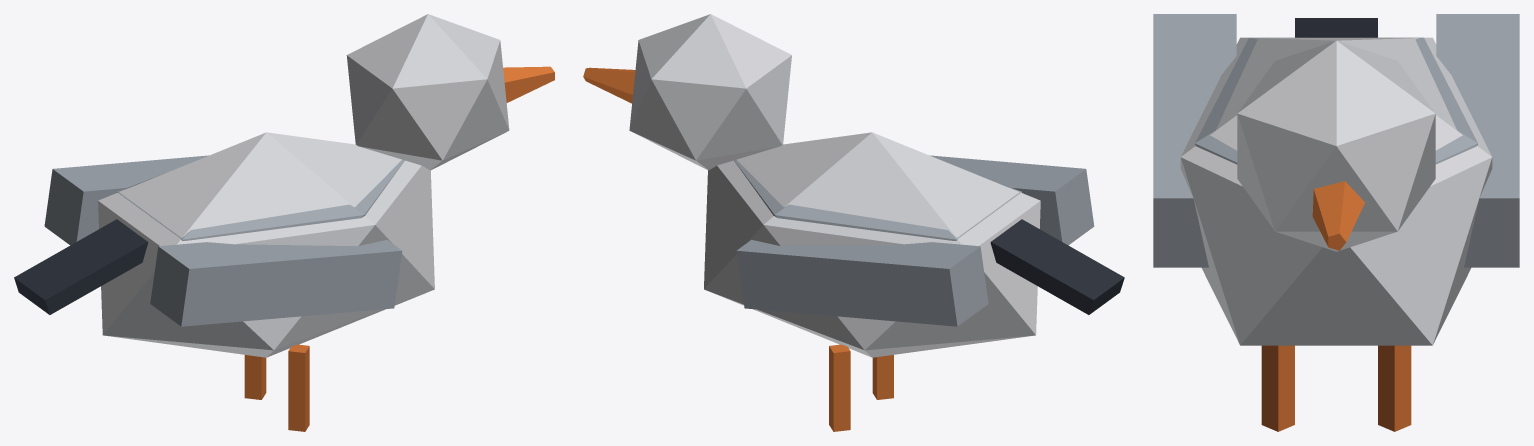
The model's file is gull.glb.
The picture shows the model from 3 angles, left to right: view 1: azimuth 30°, elevation 25°; view 2: azimuth 150°, elevation 25°; view 3: azimuth 270°, elevation 25°; orthographic projection. The views are drawn at different scales.
Parts seen in each view (by area): view 1: gull; view 2: gull; view 3: gull.
Boxes of the visible parts, bbox=[...] form: gull: bbox=[14, 14, 554, 431]; gull: bbox=[583, 14, 1124, 431]; gull: bbox=[1153, 14, 1519, 431].
Bounding box in the file's own units: 1.18 × 0.7776 × 0.5346.
